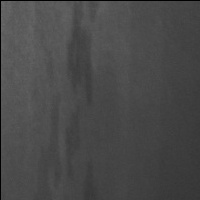inclusion: (64, 2, 98, 190), (28, 19, 62, 200), (78, 153, 102, 200)
